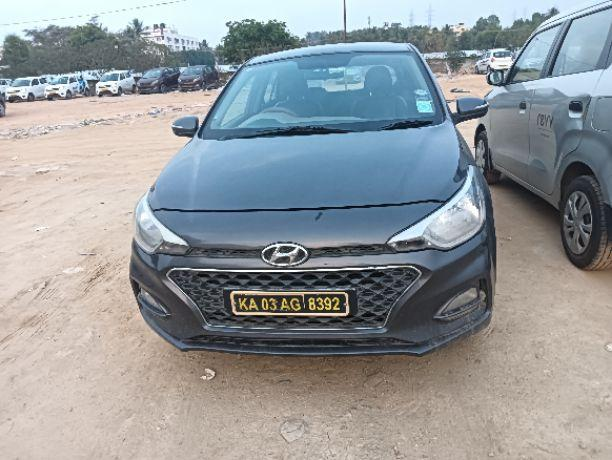license_plate: (226, 288, 352, 317)
